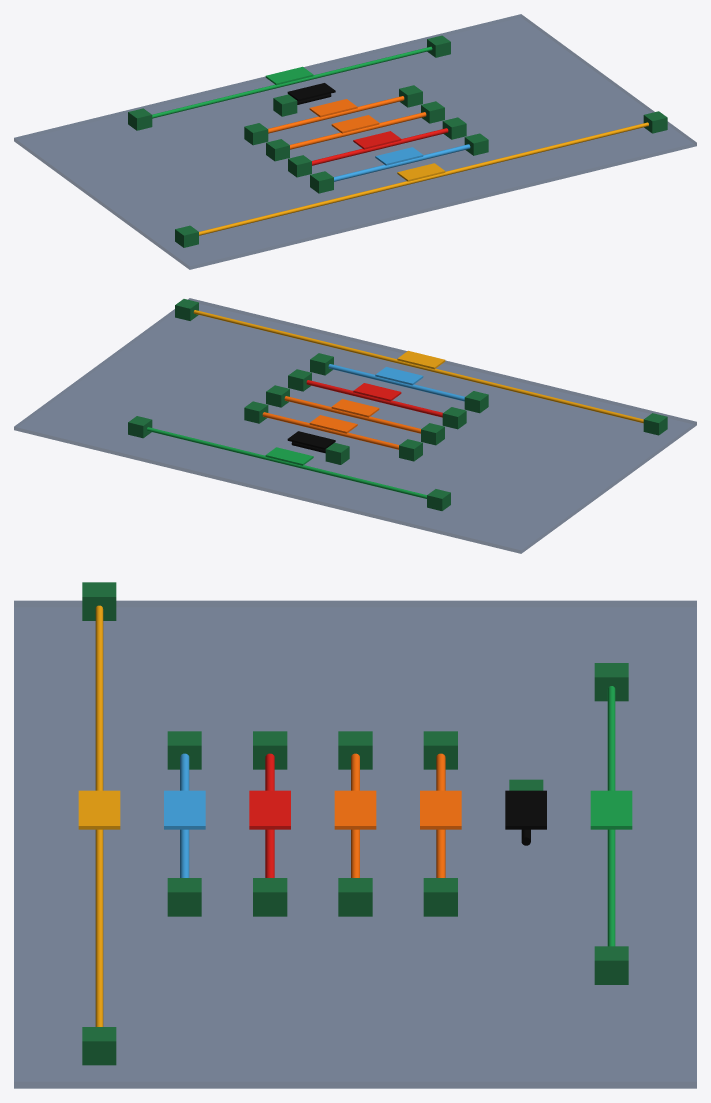
The model's file is HR30_measurement_calibration_cable_kit_candidate.glb.
3 renders of one model, top to bottom at view 1: azimuth 30°, elevation 25°; view 2: azimuth 150°, elevation 25°; view 3: azimuth 270°, elevation 25°, orthographic. The views are drawn at different scales.
Visible parts, largest first — view 1: SEGREGATED_STORAGE_TRAY_ENVELOPE, CK-01_CABLE, CK-07_CABLE, CK-04_CABLE, CK-05_CABLE, CK-02_CABLE, CK-03_CABLE, CK-01_LABEL, CK-03_LABEL, CK-02_LABEL, CK-07_LABEL, CK-04_LABEL (+15 smaller); view 2: SEGREGATED_STORAGE_TRAY_ENVELOPE, CK-01_CABLE, CK-07_CABLE, CK-04_CABLE, CK-02_CABLE, CK-03_CABLE, CK-05_CABLE, CK-05_LABEL, CK-07_LABEL, CK-01_LABEL, CK-06_LABEL, CK-02_LABEL (+15 smaller); view 3: SEGREGATED_STORAGE_TRAY_ENVELOPE, CK-01_CABLE, CK-07_CABLE, CK-01_LABEL, CK-04_LABEL, CK-07_LABEL, CK-02_LABEL, CK-03_LABEL, CK-05_LABEL, CK-06_LABEL, CK-02_END_B, CK-03_END_B (+14 smaller).
Boxes of the visible parts, left/top/right/bottom form: SEGREGATED_STORAGE_TRAY_ENVELOPE: left=14, top=14, right=696, bottom=269; CK-01_CABLE: left=199, top=122, right=648, bottom=235; CK-07_CABLE: left=152, top=46, right=432, bottom=118; CK-04_CABLE: left=290, top=112, right=426, bottom=149; CK-05_CABLE: left=268, top=96, right=404, bottom=133; CK-02_CABLE: left=334, top=144, right=470, bottom=181; CK-03_CABLE: left=312, top=128, right=448, bottom=165; CK-01_LABEL: left=397, top=163, right=445, bottom=181; CK-03_LABEL: left=353, top=131, right=401, bottom=149; CK-02_LABEL: left=375, top=147, right=423, bottom=165; CK-07_LABEL: left=265, top=66, right=313, bottom=85; CK-04_LABEL: left=331, top=115, right=379, bottom=133; SEGREGATED_STORAGE_TRAY_ENVELOPE: left=14, top=298, right=696, bottom=553; CK-01_CABLE: left=193, top=310, right=643, bottom=423; CK-07_CABLE: left=146, top=427, right=426, bottom=498; CK-04_CABLE: left=284, top=396, right=420, bottom=433; CK-02_CABLE: left=328, top=364, right=464, bottom=401; CK-03_CABLE: left=306, top=380, right=442, bottom=417; CK-05_CABLE: left=262, top=412, right=398, bottom=449; CK-05_LABEL: left=309, top=415, right=357, bottom=433; CK-07_LABEL: left=265, top=447, right=313, bottom=465; CK-01_LABEL: left=397, top=350, right=445, bottom=369; CK-06_LABEL: left=287, top=431, right=335, bottom=449; CK-02_LABEL: left=375, top=367, right=423, bottom=385; SEGREGATED_STORAGE_TRAY_ENVELOPE: left=14, top=600, right=696, bottom=1088; CK-01_CABLE: left=95, top=605, right=103, bottom=1026; CK-07_CABLE: left=607, top=686, right=615, bottom=946; CK-01_LABEL: left=78, top=790, right=120, bottom=829; CK-04_LABEL: left=334, top=790, right=376, bottom=829; CK-07_LABEL: left=590, top=790, right=632, bottom=829; CK-02_LABEL: left=164, top=790, right=205, bottom=829; CK-03_LABEL: left=249, top=790, right=290, bottom=829; CK-05_LABEL: left=420, top=790, right=461, bottom=829; CK-06_LABEL: left=505, top=790, right=546, bottom=829; CK-02_END_B: left=167, top=878, right=201, bottom=916; CK-03_END_B: left=253, top=878, right=287, bottom=916.
Size of the model in its own units: 600 by 23 by 360.
